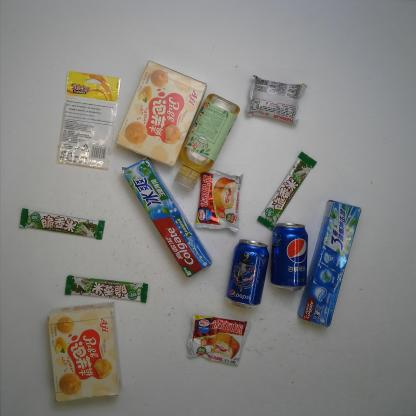Chocolate: (257, 151, 316, 231), (18, 208, 106, 240), (64, 276, 148, 303)
Dessert: (119, 60, 208, 167), (44, 301, 118, 402), (165, 298, 256, 376), (194, 163, 240, 235), (247, 76, 306, 124)
Drink: (176, 93, 244, 191), (223, 241, 265, 304), (272, 218, 306, 292)
Personal Hygiene: (116, 152, 218, 282), (299, 200, 363, 328)
Stationery: (52, 69, 122, 172)
